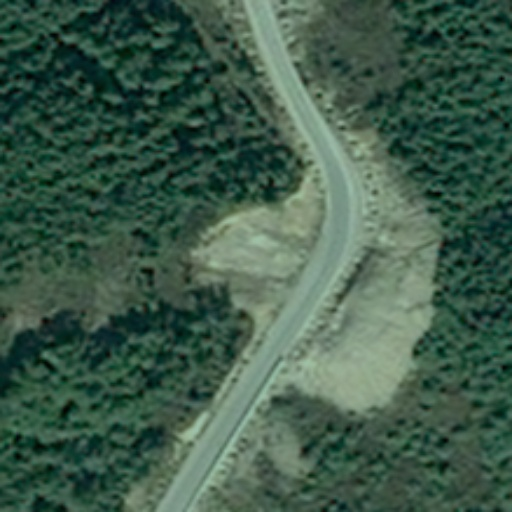landslide: (194, 174, 326, 321)
